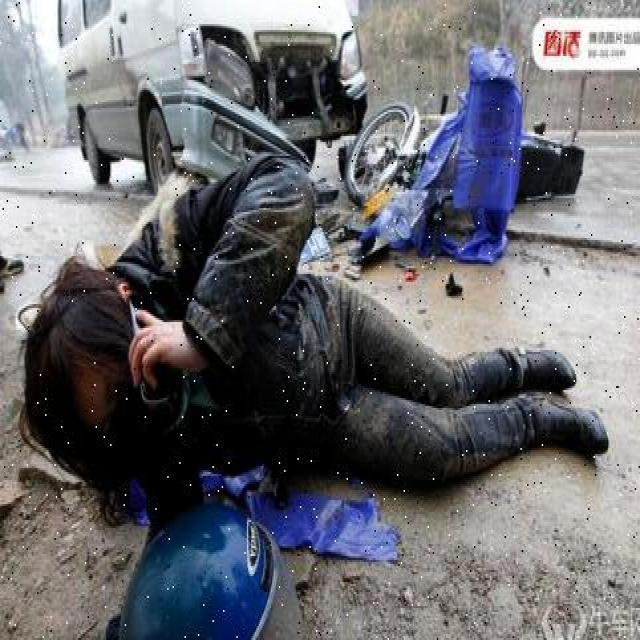fall: (33, 168, 580, 478)
